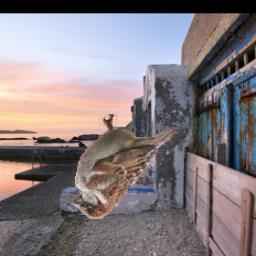Sparrow: (73, 114, 182, 219)
